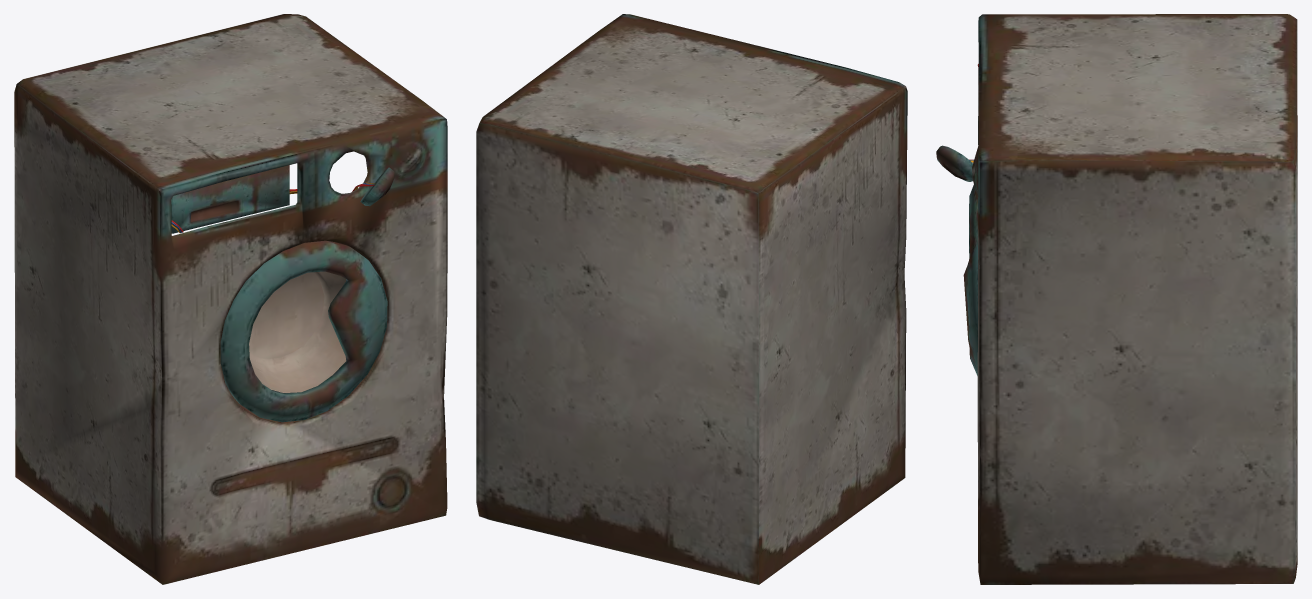
The model's file is junktest.glb.
3 renders of one model, left to right at view 1: azimuth 30°, elevation 25°; view 2: azimuth 150°, elevation 25°; view 3: azimuth 270°, elevation 25°, orthographic. The views are drawn at different scales.
Parts seen in each view (by area): view 1: washingMachine; view 2: washingMachine; view 3: washingMachine.
Part boxes in pixels (box(x1,y1,x2,y2)): washingMachine: box(14, 14, 447, 584); washingMachine: box(476, 14, 907, 584); washingMachine: box(936, 14, 1297, 584).
Size of the model in its own units: 0.8218 by 1.09 by 0.8352.
1 material, 1 textured.
